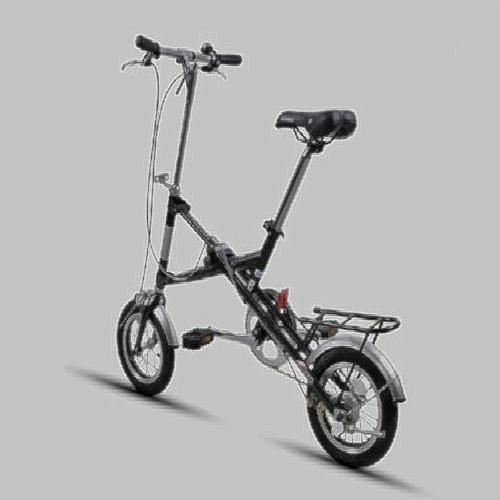bicycle: (126, 28, 409, 461)
